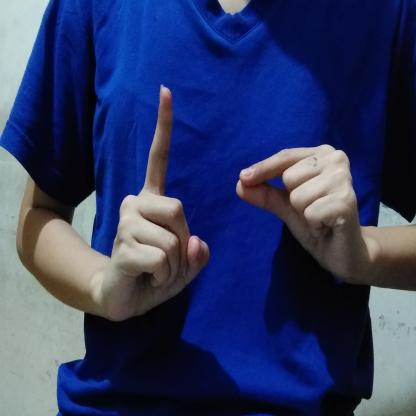son: (101, 80, 372, 328)
